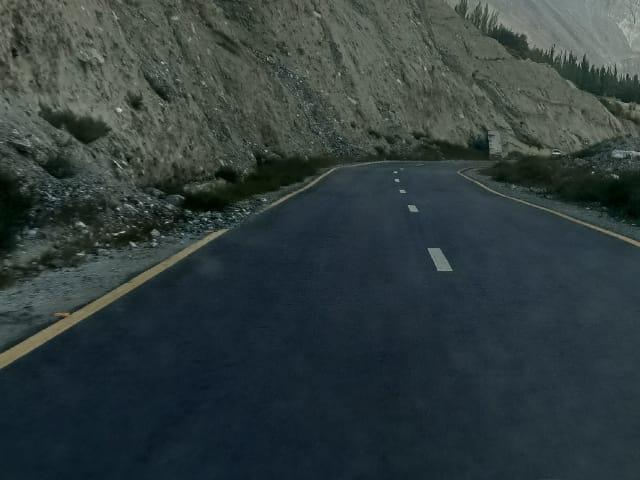right_turn: (286, 118, 564, 188)
